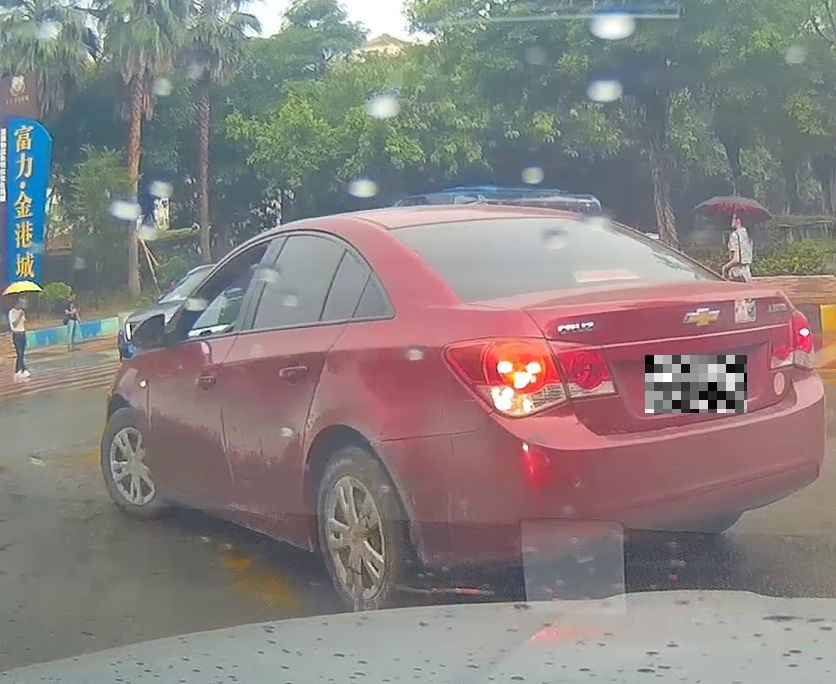L_light: (439, 335, 618, 419)
R_light: (768, 309, 817, 372)
T_light: (573, 268, 642, 282)
day-left: (374, 203, 826, 608)
plate_1: (645, 355, 747, 413)
